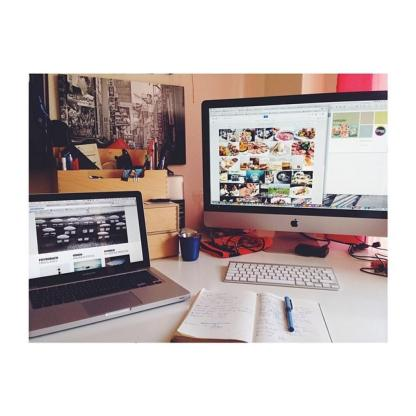board: (23, 182, 191, 337)
